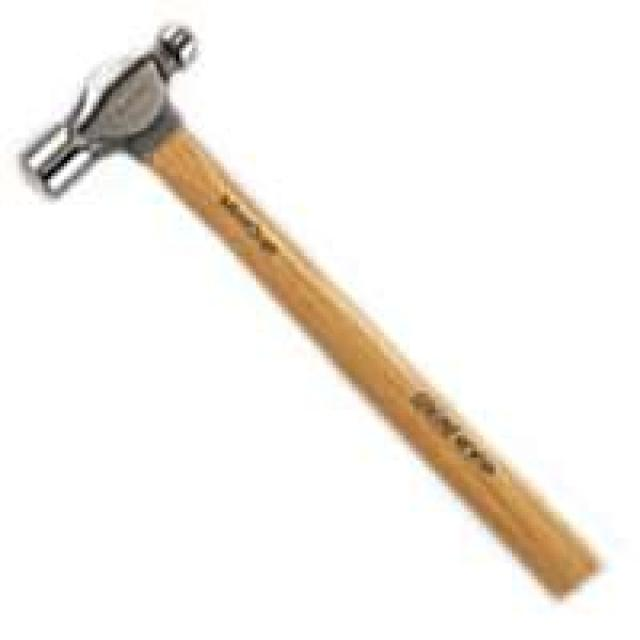hammer: (9, 0, 627, 474)
